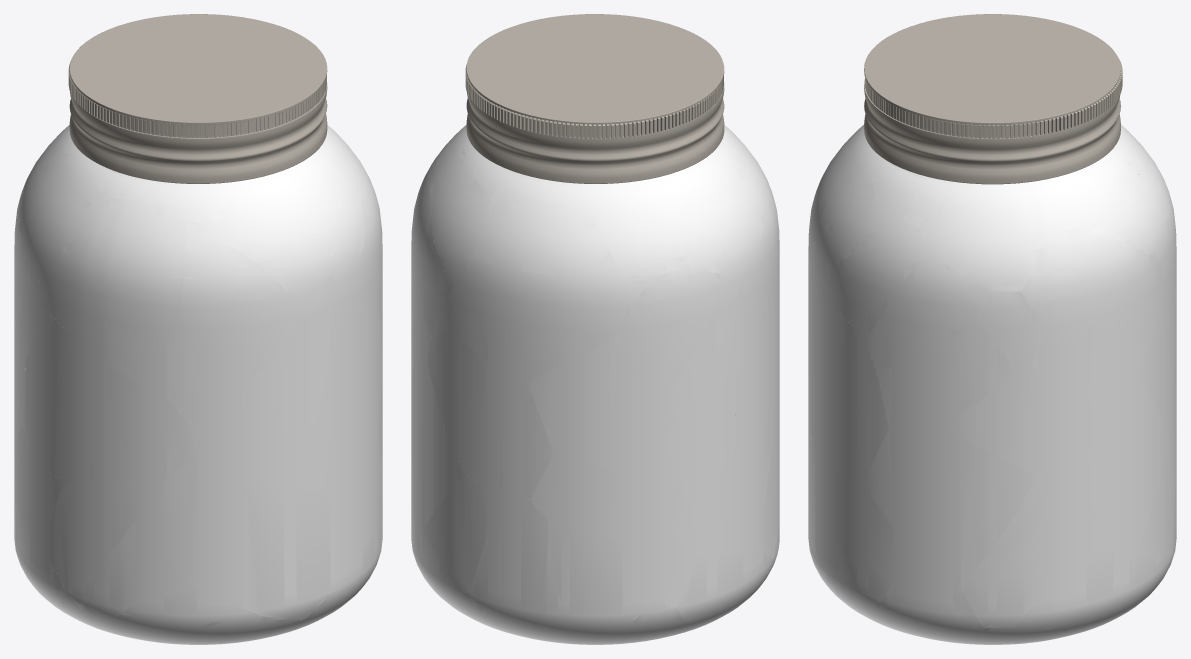
Rendered from 0504breakingJarAndLid.gltf.
3 renders of one model, left to right at view 1: azimuth 30°, elevation 25°; view 2: azimuth 150°, elevation 25°; view 3: azimuth 270°, elevation 25°, orthographic.
Visible parts, largest first — view 1: jar, top (×2), defaultMaterial_cell085, defaultMaterial_cell044, defaultMaterial_cell067, defaultMaterial_cell005, defaultMaterial_cell036, defaultMaterial_cell088, defaultMaterial_cell042, defaultMaterial_cell046, defaultMaterial_cell009, defaultMaterial_cell015 (+11 smaller); view 2: jar, top (×2), defaultMaterial_cell041, defaultMaterial_cell013, defaultMaterial_cell074, defaultMaterial_cell066, defaultMaterial_cell070, defaultMaterial_cell079, defaultMaterial_cell, defaultMaterial_cell034, defaultMaterial_cell045, defaultMaterial_cell071 (+18 smaller); view 3: jar, top (×2), defaultMaterial_cell048, defaultMaterial_cell056, defaultMaterial_cell031, defaultMaterial_cell085, defaultMaterial_cell010, defaultMaterial_cell037, defaultMaterial_cell014, defaultMaterial_cell004, defaultMaterial_cell075, defaultMaterial_cell008 (+19 smaller).
Boxes of the visible parts, left/top/right/bottom form: jar: left=15, top=125, right=382, bottom=644; top (×2): left=68, top=14, right=327, bottom=183; defaultMaterial_cell085: left=189, top=301, right=381, bottom=484; defaultMaterial_cell044: left=242, top=482, right=331, bottom=620; defaultMaterial_cell067: left=50, top=196, right=190, bottom=399; defaultMaterial_cell005: left=25, top=321, right=195, bottom=484; defaultMaterial_cell036: left=167, top=246, right=304, bottom=423; defaultMaterial_cell088: left=67, top=460, right=196, bottom=625; defaultMaterial_cell042: left=208, top=194, right=327, bottom=317; defaultMaterial_cell046: left=51, top=476, right=166, bottom=592; defaultMaterial_cell009: left=26, top=153, right=101, bottom=276; defaultMaterial_cell015: left=119, top=584, right=214, bottom=644; jar: left=411, top=125, right=779, bottom=644; top (×2): left=465, top=14, right=724, bottom=183; defaultMaterial_cell041: left=451, top=255, right=649, bottom=381; defaultMaterial_cell013: left=527, top=340, right=676, bottom=471; defaultMaterial_cell074: left=542, top=521, right=638, bottom=643; defaultMaterial_cell066: left=663, top=383, right=735, bottom=526; defaultMaterial_cell070: left=667, top=279, right=767, bottom=415; defaultMaterial_cell079: left=426, top=329, right=486, bottom=484; defaultMaterial_cell: left=663, top=451, right=771, bottom=555; defaultMaterial_cell034: left=612, top=263, right=720, bottom=394; defaultMaterial_cell045: left=474, top=180, right=616, bottom=273; defaultMaterial_cell071: left=530, top=454, right=620, bottom=537; jar: left=808, top=125, right=1176, bottom=644; top (×2): left=864, top=14, right=1122, bottom=184; defaultMaterial_cell048: left=867, top=429, right=1035, bottom=584; defaultMaterial_cell056: left=1021, top=228, right=1163, bottom=343; defaultMaterial_cell031: left=919, top=183, right=1047, bottom=291; defaultMaterial_cell085: left=808, top=261, right=888, bottom=480; defaultMaterial_cell010: left=1087, top=375, right=1169, bottom=550; defaultMaterial_cell037: left=959, top=371, right=1111, bottom=476; defaultMaterial_cell014: left=838, top=218, right=919, bottom=337; defaultMaterial_cell004: left=868, top=261, right=991, bottom=371; defaultMaterial_cell075: left=877, top=322, right=1015, bottom=428; defaultMaterial_cell008: left=837, top=474, right=892, bottom=581.
Size of the model in its own units: 10.17 by 15.83 by 10.17.
3 materials, 3 textured.
